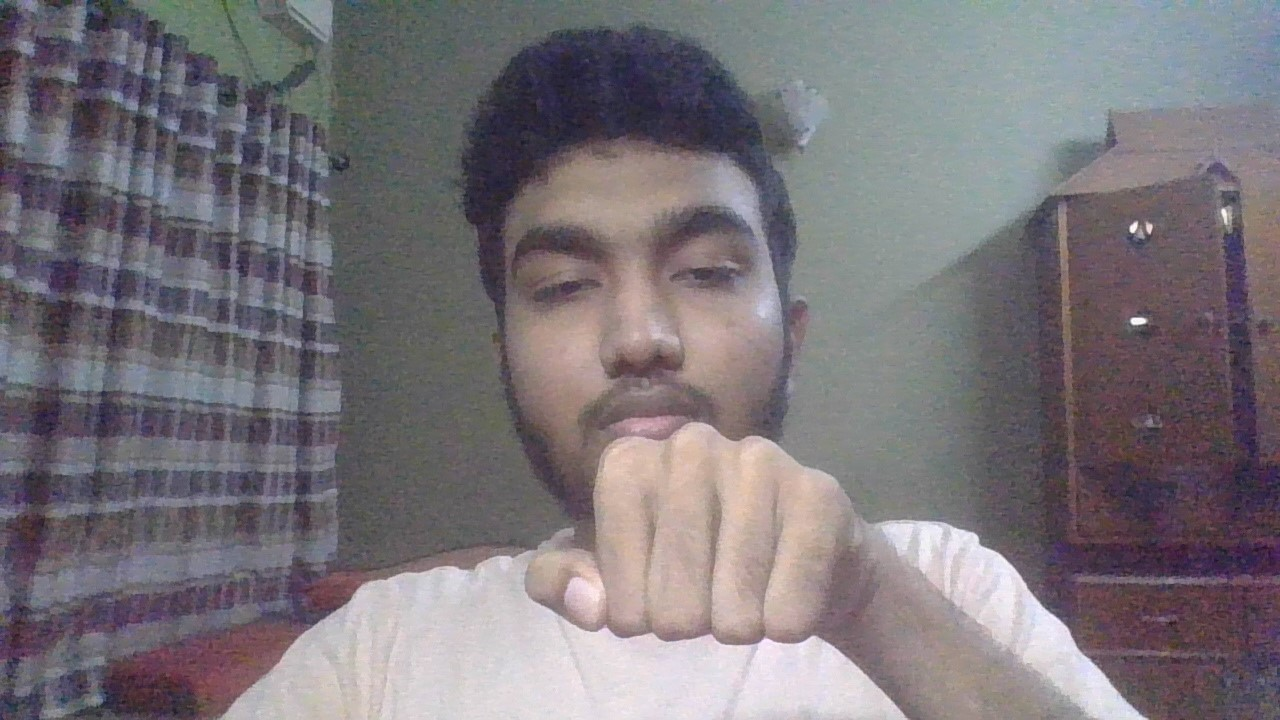Yes: (519, 405, 919, 689)
